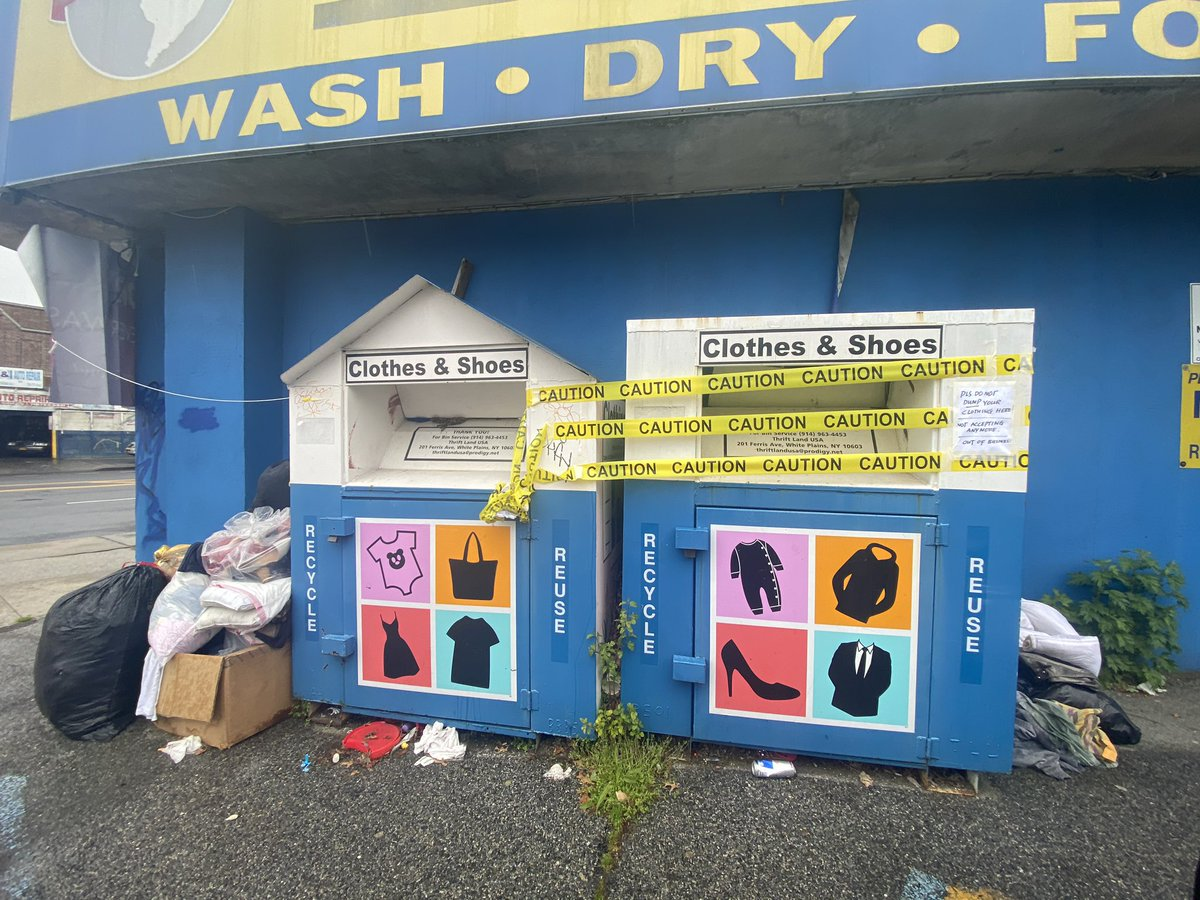sign: (1, 1, 1192, 206)
trash: (55, 458, 307, 776), (979, 584, 1154, 791)
